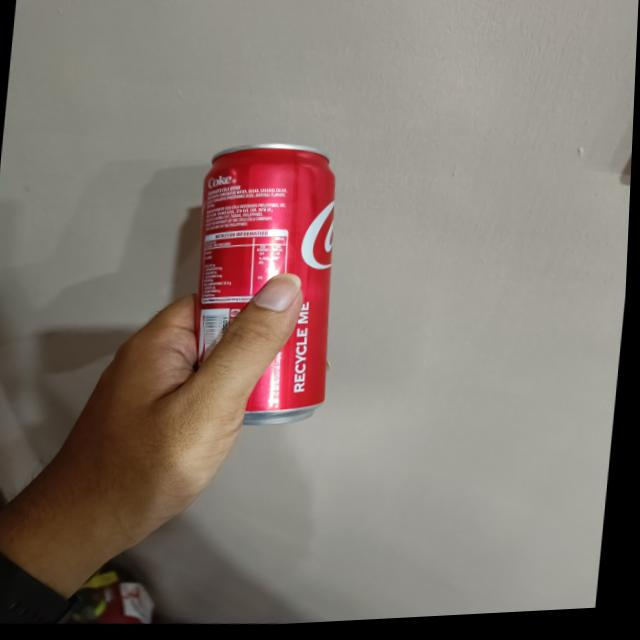coke: (186, 142, 349, 433)
